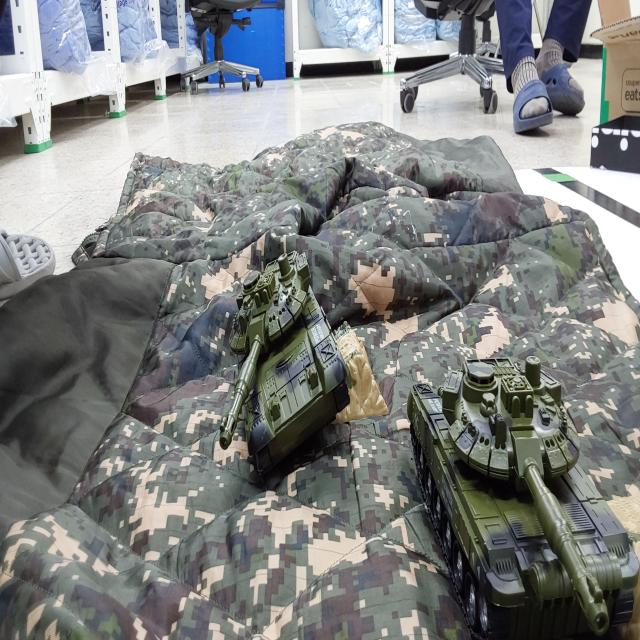enem_tank: (406, 356, 640, 638), (219, 251, 349, 473)
